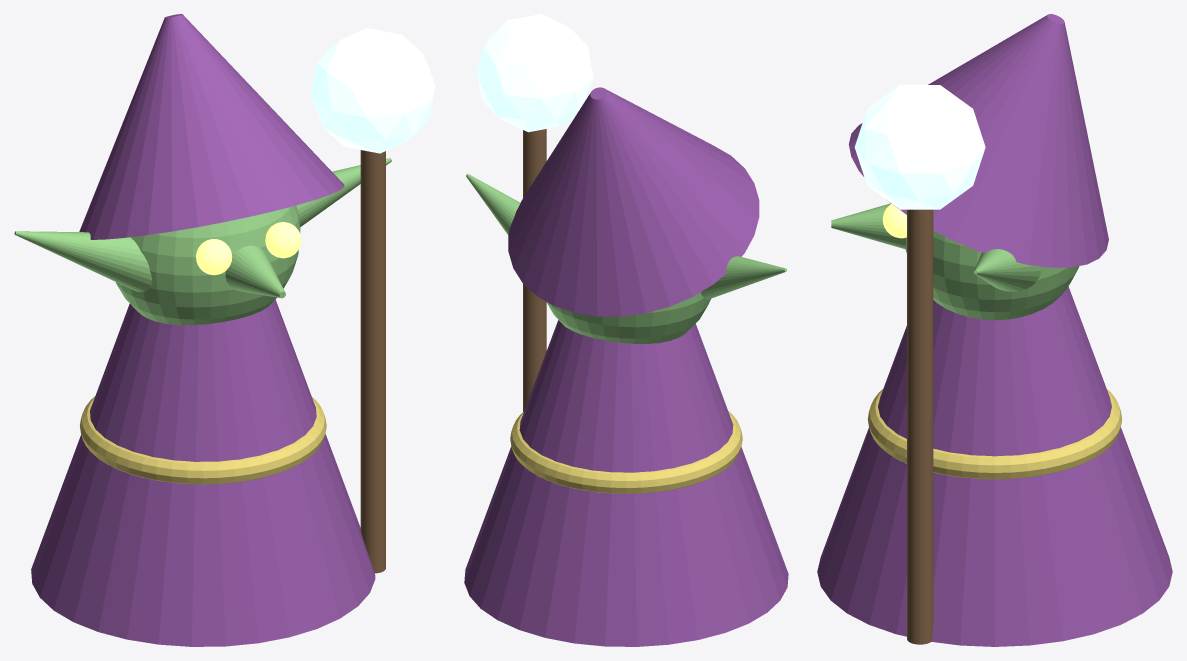
File: Duende_Magico_Epico.fbx
3 views of the same model, side by side, from view 1: azimuth 30°, elevation 25°; view 2: azimuth 150°, elevation 25°; view 3: azimuth 270°, elevation 25° (orthographic). The views are drawn at different scales.
Parts seen in each view (by area): view 1: Cone, Cone.004, Icosphere, Sphere, Cylinder, Torus, Cone.002, Cone.001, Cone.003, Sphere.002, Sphere.001; view 2: Cone, Cone.004, Icosphere, Torus, Sphere, Cylinder, Cone.002, Cone.003; view 3: Cone, Cone.004, Icosphere, Cylinder, Sphere, Torus, Cone.003, Cone.001, Sphere.002.
Boxes of the visible parts, x1,y1,x2,y2 form: Cone: [31, 300, 375, 646]; Cone.004: [79, 14, 344, 239]; Icosphere: [311, 28, 435, 153]; Sphere: [115, 205, 300, 325]; Cylinder: [360, 150, 385, 573]; Torus: [80, 396, 326, 484]; Cone.002: [14, 231, 152, 292]; Cone.001: [225, 245, 285, 298]; Cone.003: [296, 158, 391, 227]; Sphere.002: [265, 222, 301, 258]; Sphere.001: [196, 239, 232, 275]; Cone: [464, 320, 788, 646]; Cone.004: [508, 87, 759, 316]; Icosphere: [476, 14, 593, 132]; Torus: [510, 411, 742, 493]; Sphere: [546, 292, 710, 343]; Cylinder: [523, 129, 546, 411]; Cone.002: [700, 256, 786, 299]; Cone.003: [466, 174, 520, 234]; Cone: [817, 286, 1172, 646]; Cone.004: [848, 14, 1108, 267]; Icosphere: [854, 85, 985, 209]; Cylinder: [907, 209, 933, 644]; Sphere: [905, 231, 1079, 320]; Torus: [867, 389, 1122, 479]; Cone.003: [974, 249, 1041, 291]; Cone.001: [831, 203, 905, 249]; Sphere.002: [882, 204, 906, 238].
Size of the model in its own units: 232 by 328 by 190.
